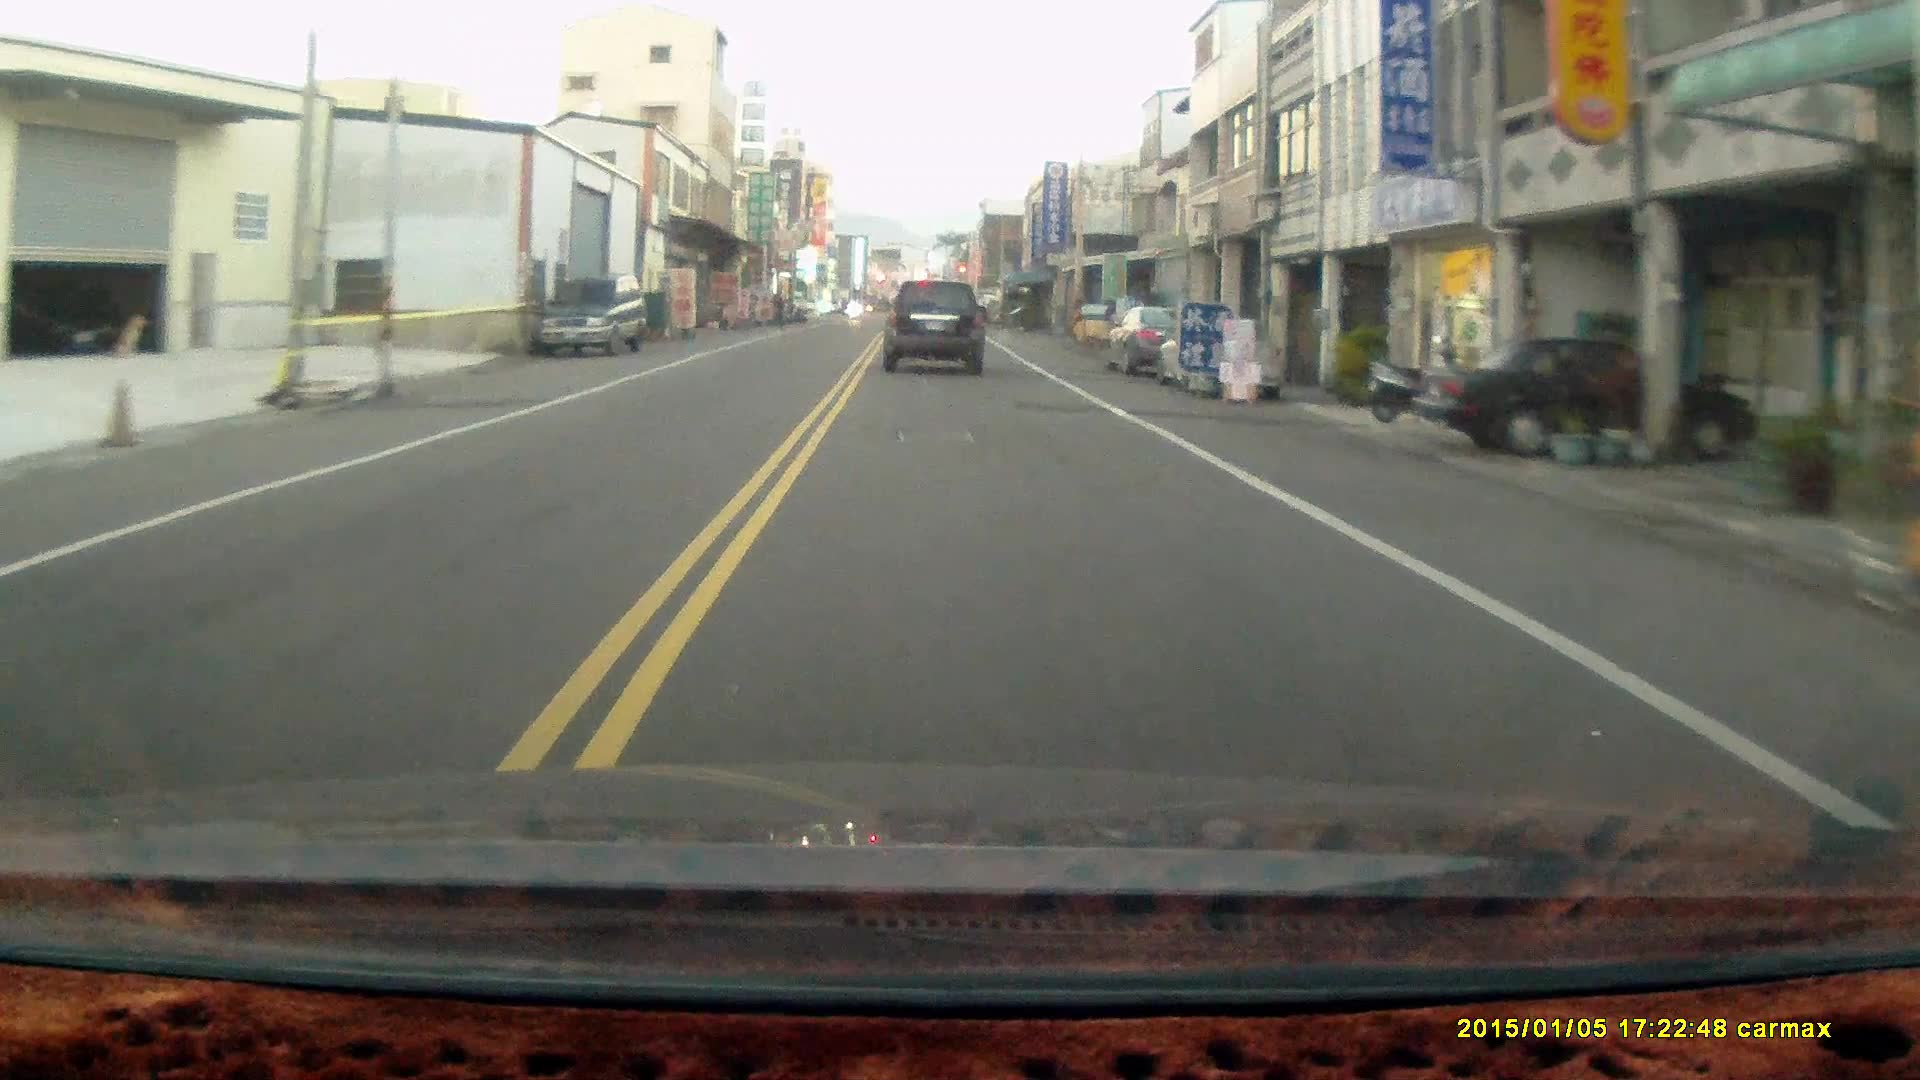vehicle: (1415, 338, 1760, 459), (1160, 320, 1290, 407), (884, 284, 988, 382), (537, 281, 651, 363), (1105, 307, 1226, 380)
